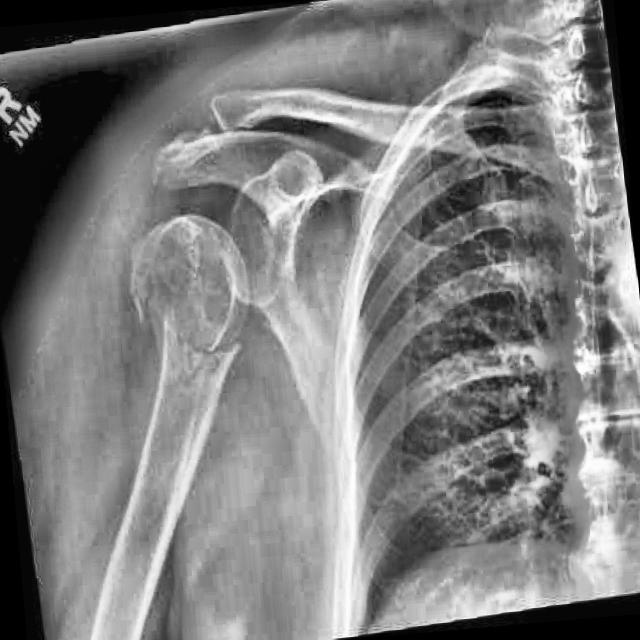shoulder fracture: (105, 267, 278, 434)
